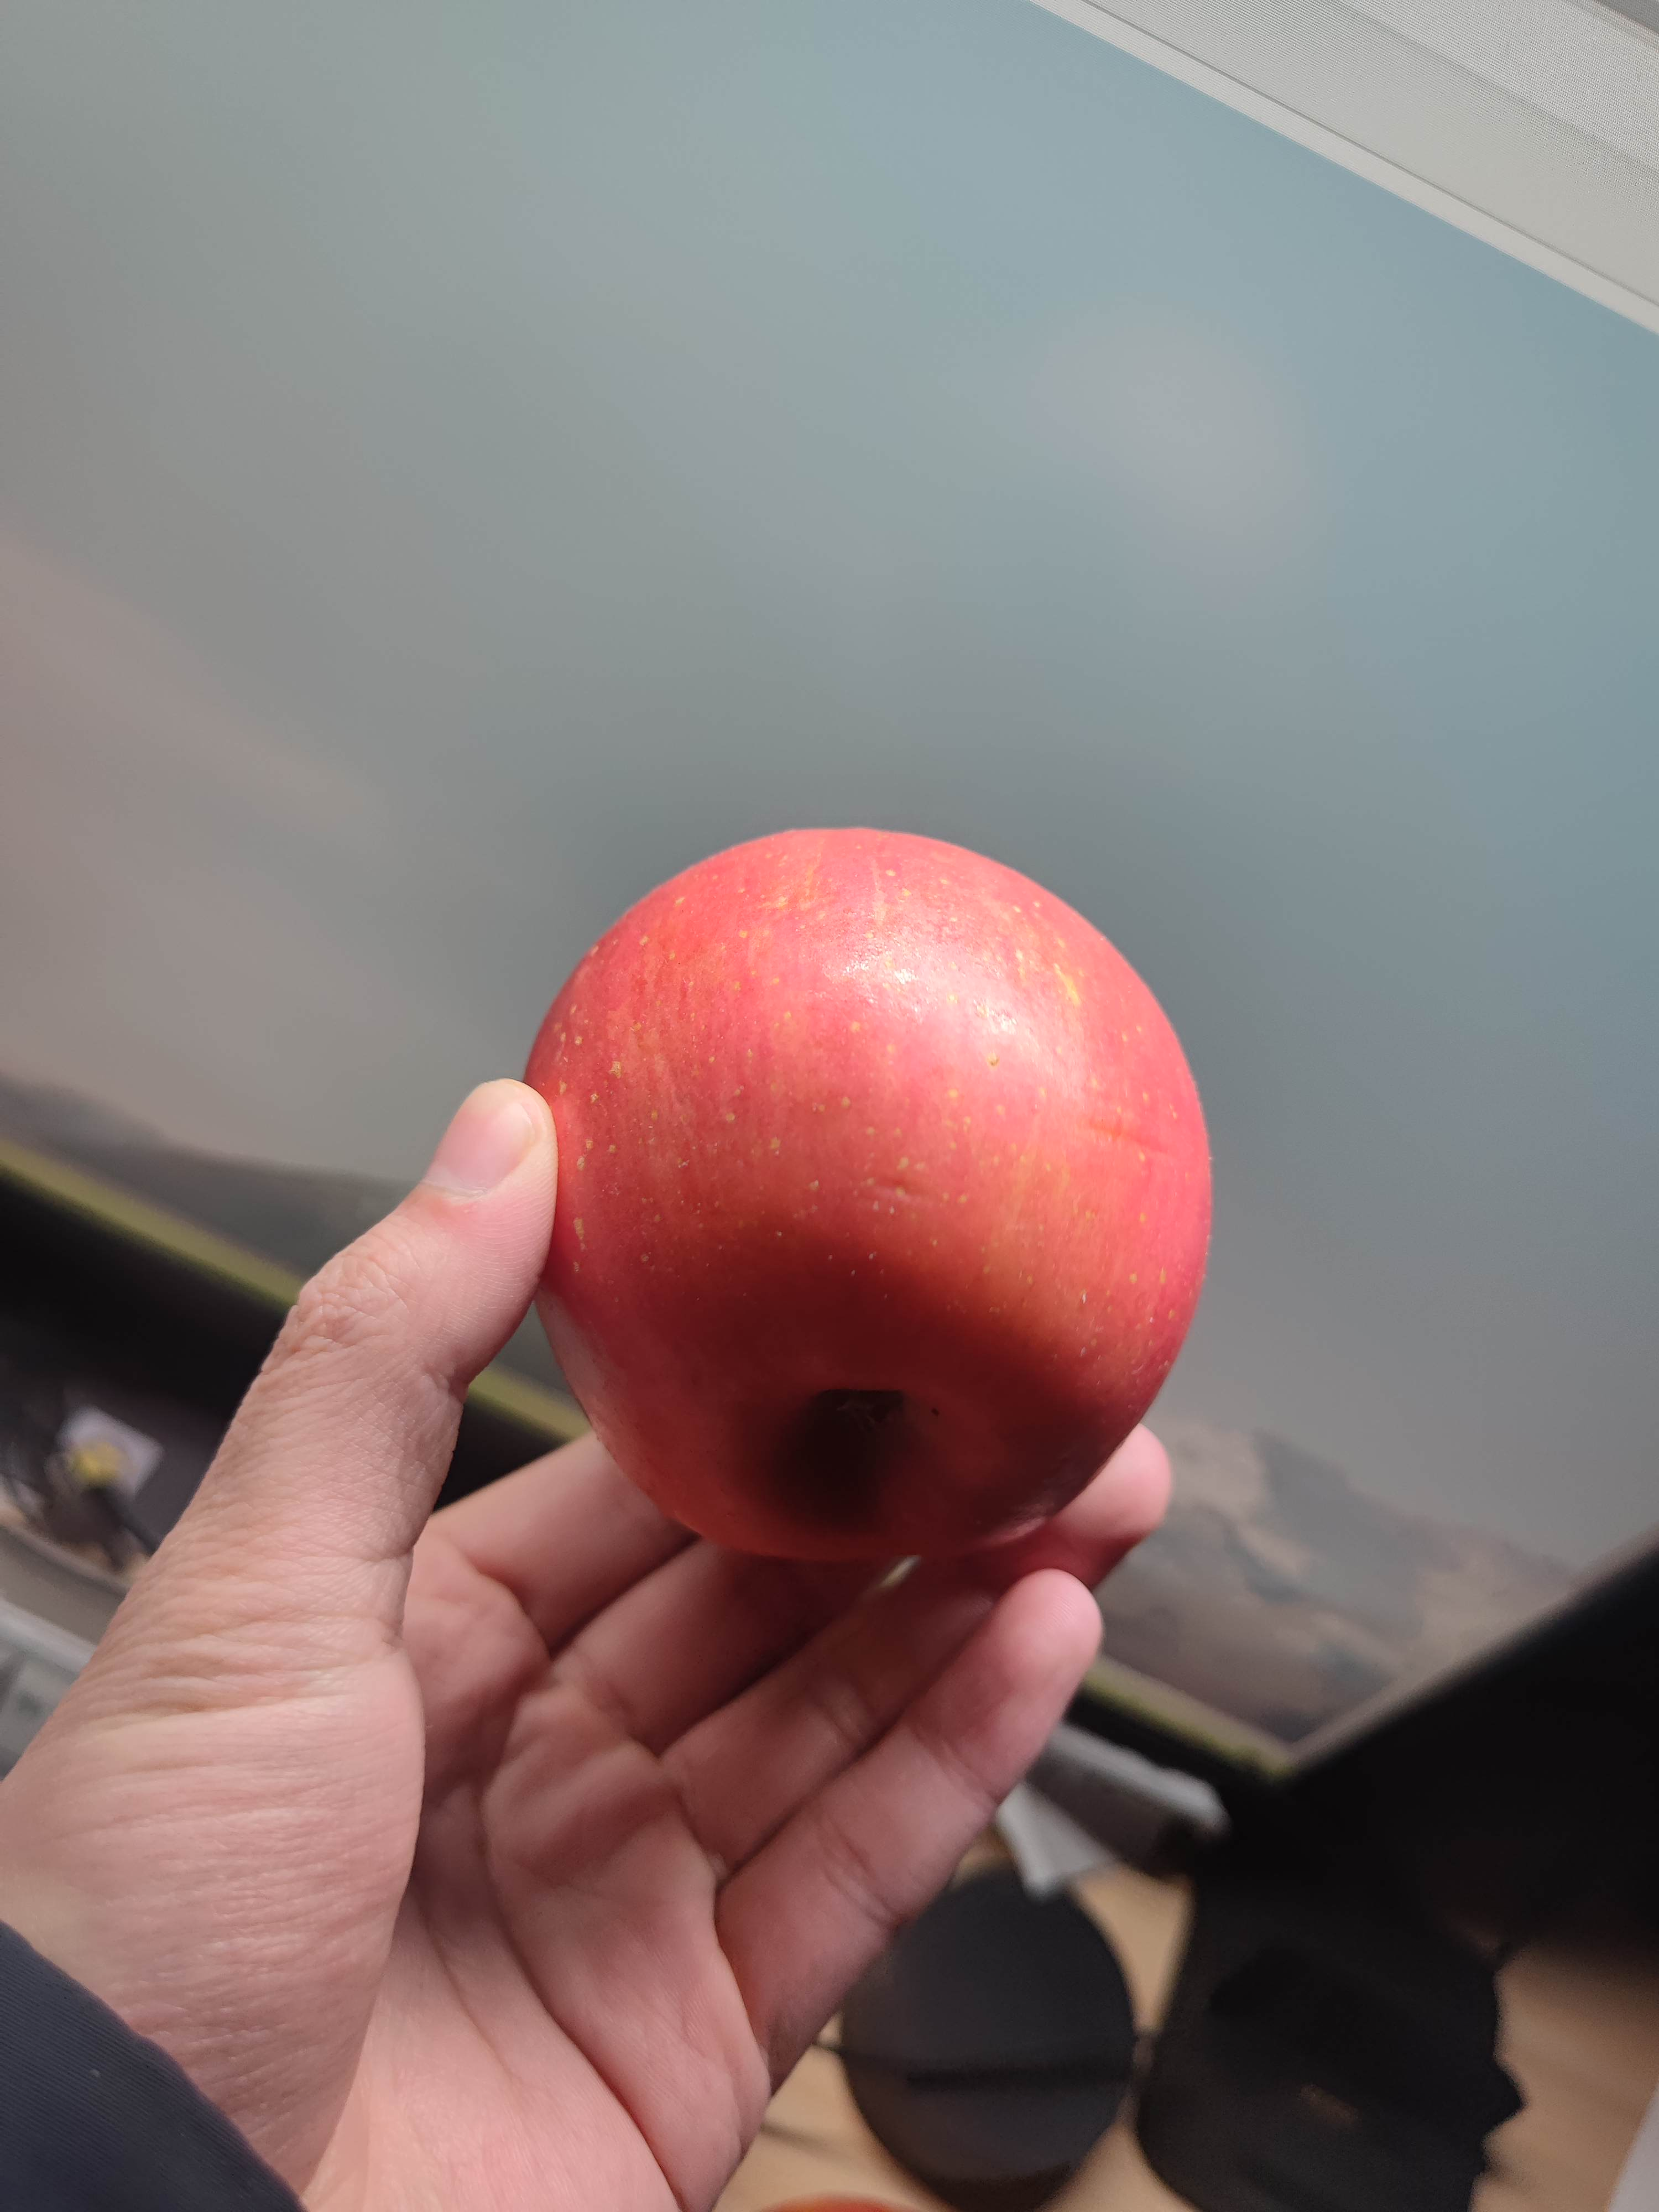apple: (516, 817, 1194, 1581)
